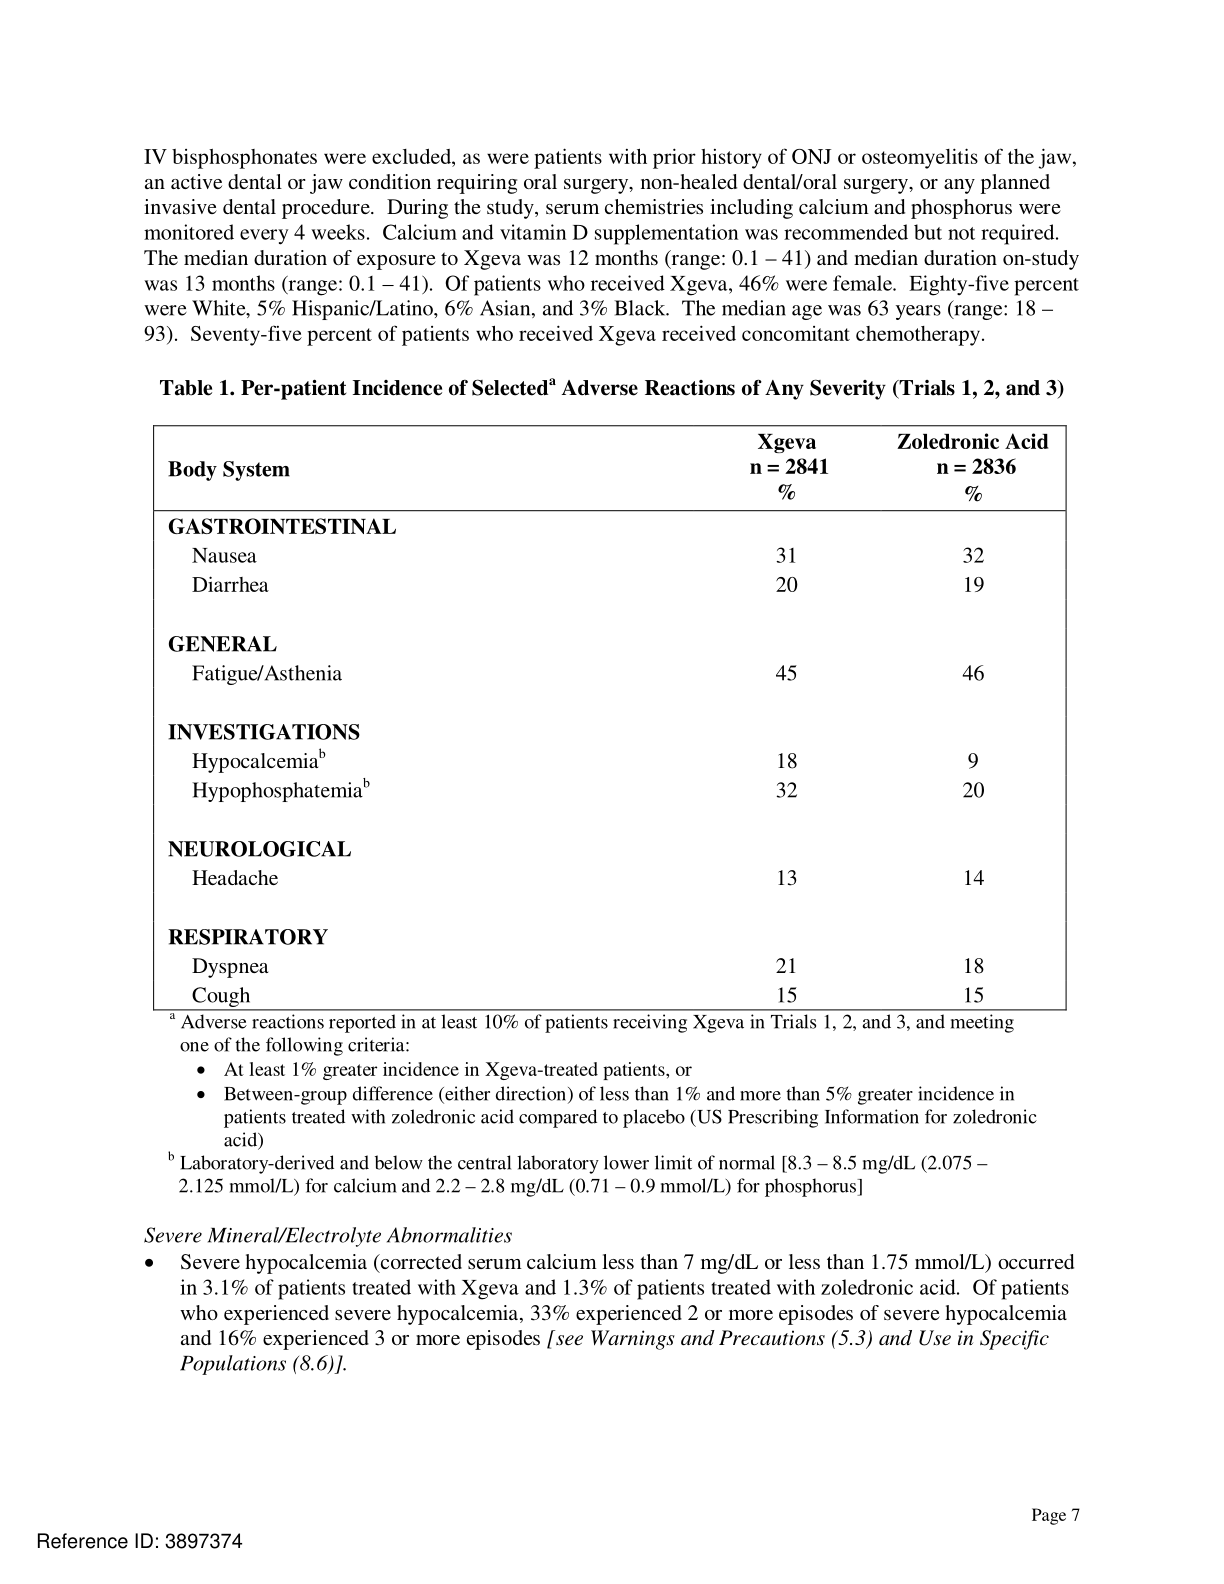partial_lined_merged_cells: (147, 419, 1071, 1013)
